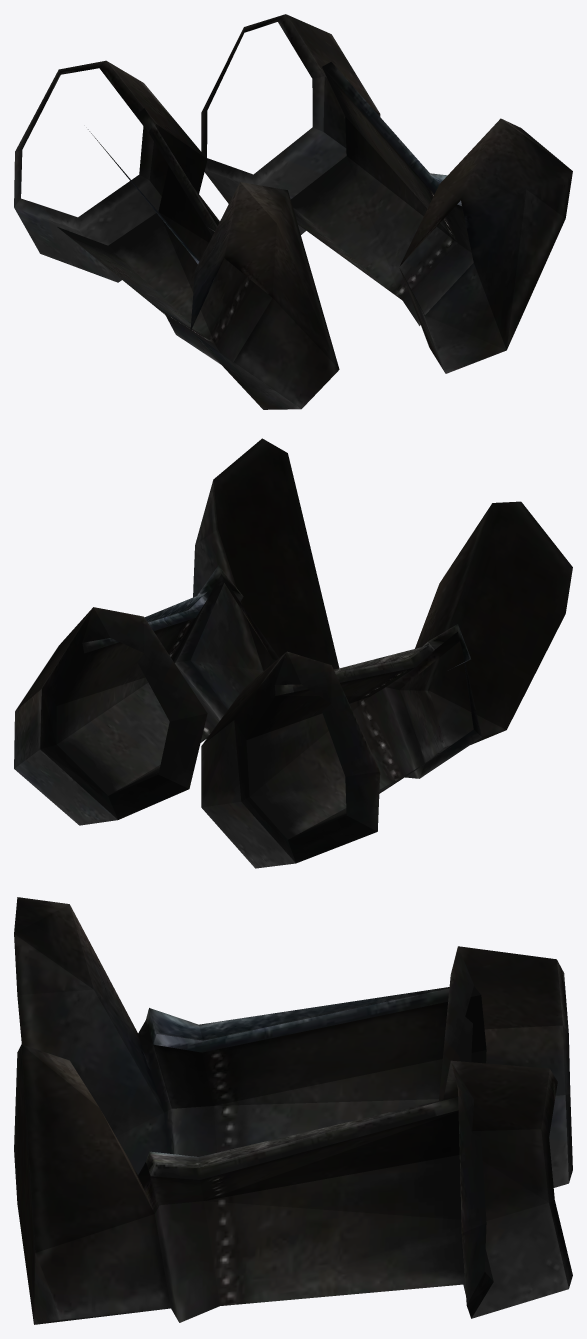
Rendered from PLYTOWE_TRZEWIKI.glb.
3 renders of one model, top to bottom at view 1: azimuth 30°, elevation 25°; view 2: azimuth 150°, elevation 25°; view 3: azimuth 270°, elevation 25°, orthographic. The views are drawn at different scales.
Visible parts, largest first — view 1: PLYTOWE_TRZEWIKI; view 2: PLYTOWE_TRZEWIKI; view 3: PLYTOWE_TRZEWIKI.
Part boxes in pixels (box(x1,y1,x2,y2)): PLYTOWE_TRZEWIKI: box(14, 14, 572, 409); PLYTOWE_TRZEWIKI: box(14, 438, 572, 868); PLYTOWE_TRZEWIKI: box(14, 897, 572, 1324).
Size of the model in its own units: 0.3085 by 0.2011 by 0.3378.
1 material, 1 textured.
